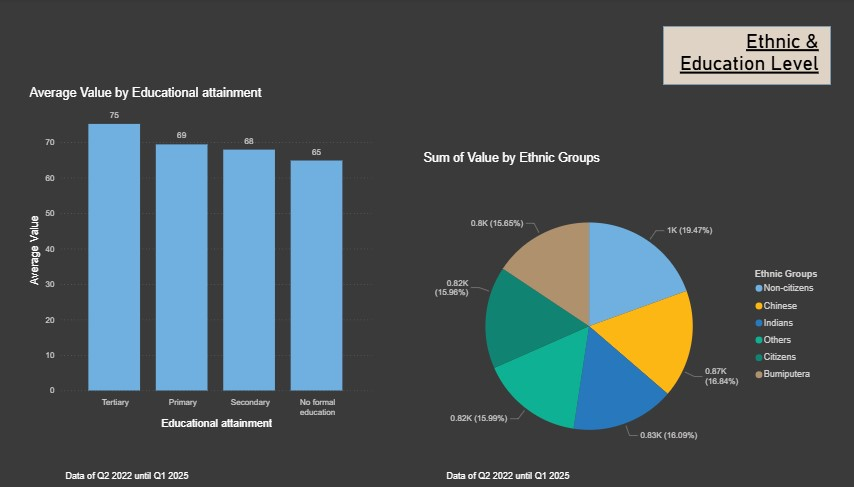

What the dashboard file says about the page in this screenshot:
{"tool":"powerbi","page":{"name":"Ethnic & Education Level","canvas":[1280,720],"ordinal":1},"visuals":[{"type":"shape","box":[999.2,41.1,246.9,86.7],"z":0},{"type":"textbox","box":[999.2,41.1,233.6,86.7],"z":1000},{"type":"pieChart","fields":{"Category":["Ethnic Groups.Ethnic Groups"],"Y":["Sum(Ethnic Groups.Value)"]},"box":[642.1,223.3,603.9,496.7],"z":2000},{"type":"clusteredColumnChart","fields":{"Category":["Education.Educational attainment"],"Y":["Education.Average Value"]},"box":[63.2,127.8,512.8,509.9],"z":3000},{"type":"textbox","box":[675.9,689.1,202.8,30.9],"z":4000},{"type":"textbox","box":[116.1,689.1,202.8,30.9],"z":5000},{"type":"textbox","box":[0,0,76.4,20.6],"z":5001}]}

Visuals, with their boxes in screenshot pixels (x1, y1, x2, y2), scaled from the page's 1280x720 canvas onto the 854x487 screenshot:
shape: l=667, t=28, r=831, b=86
textbox: l=667, t=28, r=823, b=86
pieChart - Ethnic Groups.Ethnic Groups x Sum(Ethnic Groups.Value): l=428, t=151, r=831, b=486
clusteredColumnChart - Education.Educational attainment x Education.Average Value: l=42, t=86, r=384, b=431
textbox: l=451, t=466, r=586, b=486
textbox: l=77, t=466, r=213, b=486
textbox: l=0, t=0, r=51, b=14
